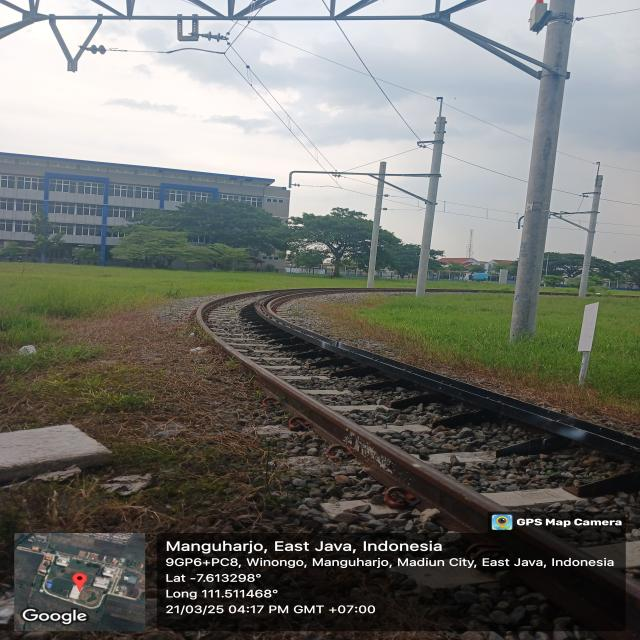rail-detection: (228, 348, 626, 630), (269, 319, 640, 460)
